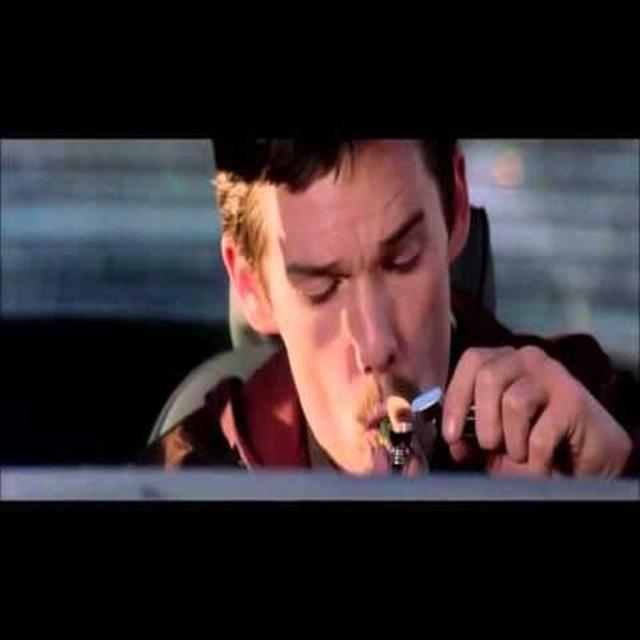smoking: (211, 136, 517, 493)
